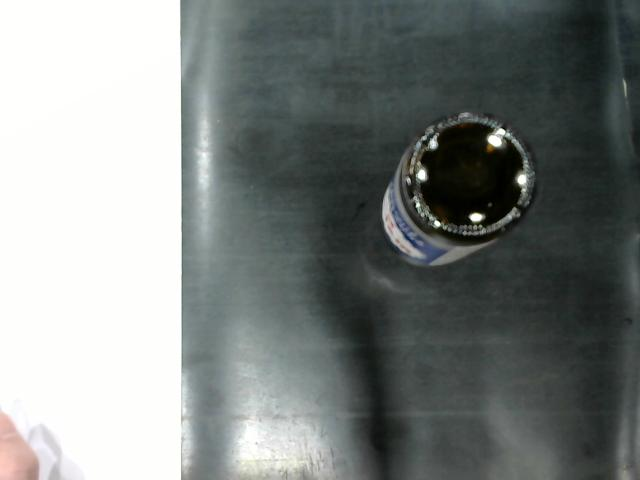glass: (361, 94, 561, 296)
